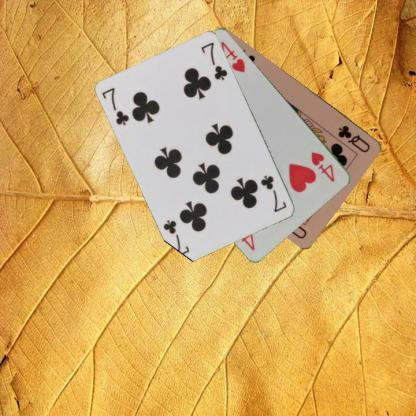4h: (308, 149, 336, 183)
7c: (100, 85, 132, 127), (258, 173, 288, 214)
Qc: (336, 122, 372, 154)
